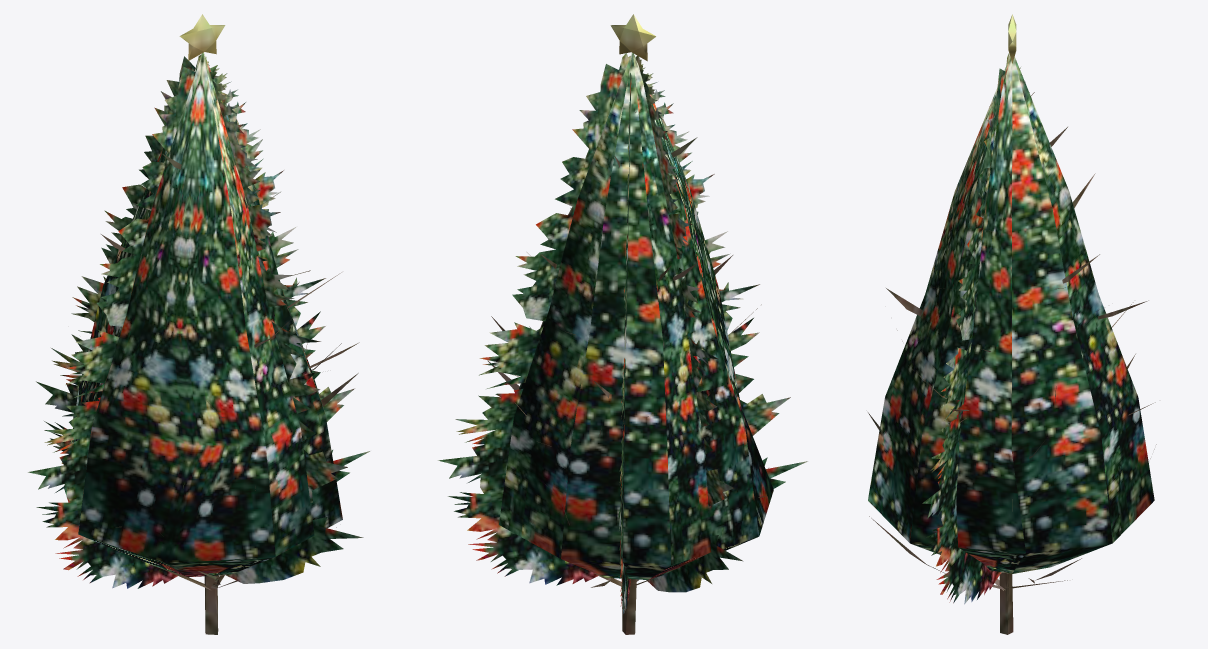
File: cay-thong-03.glb
The picture shows the model from 3 angles, left to right: view 1: azimuth 30°, elevation 25°; view 2: azimuth 150°, elevation 25°; view 3: azimuth 270°, elevation 25°; orthographic projection.
Parts seen in each view (by area): view 1: CayThong03; view 2: CayThong03; view 3: CayThong03.
Part boxes in pixels (box(x1,y1,x2,y2)): CayThong03: box(28, 14, 370, 634); CayThong03: box(438, 14, 808, 634); CayThong03: box(868, 14, 1156, 634).
Bounding box in the file's own units: 2.05 × 3.52 × 1.85.
Materials: 1 (1 with a texture image).
